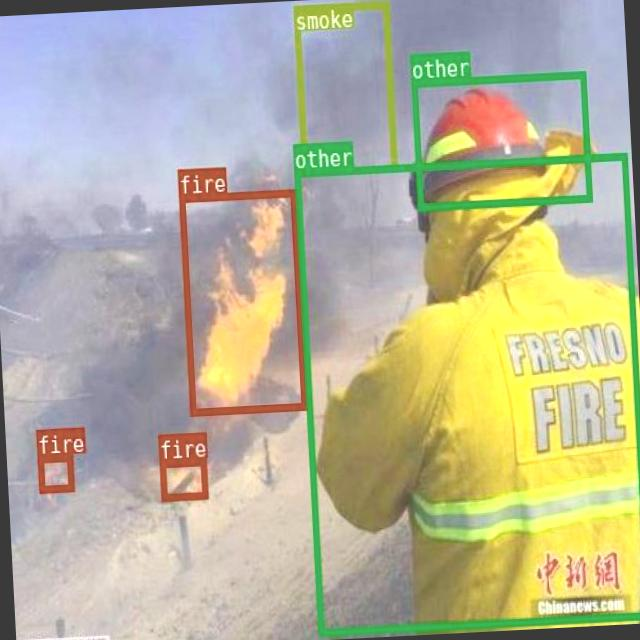fire: (178, 188, 306, 414), (158, 457, 208, 500), (36, 452, 74, 492)
smoke: (292, 0, 397, 175)
